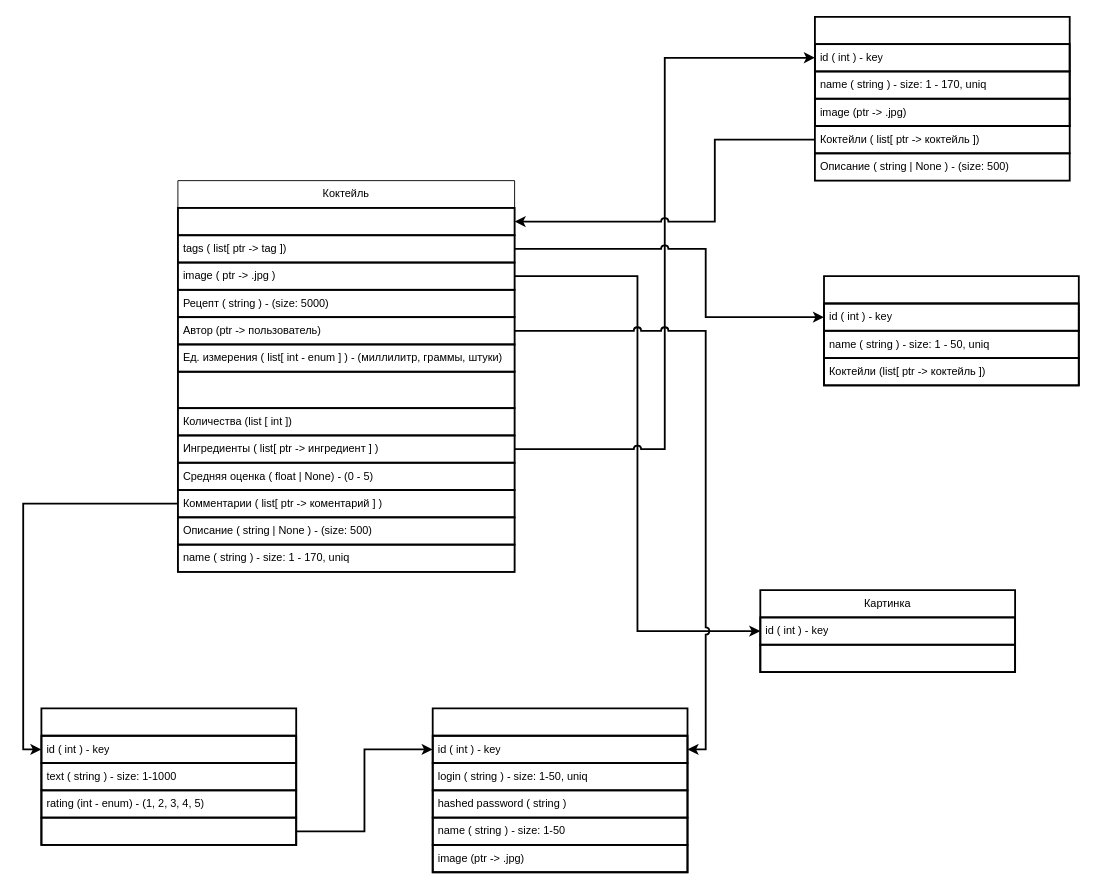
Image size: 1095x888. Some labels were removed from this diagram. Here are the shapes that lost their labels. From the top down, the box of each, then its label:
(814, 15, 1070, 126): Ингредиент
(177, 207, 515, 236): id (int) - key
(823, 275, 1079, 386): Тэг
(177, 370, 515, 409): Крепость ( int - enum ) - (безалкогольные, слабоалкогольные, крепкие )
(759, 643, 1016, 672): Картинка ( img ) - 512 x 512
(40, 707, 297, 845): Отзыв
(431, 707, 688, 873): Алкоголик
(40, 816, 297, 845): author (ptr -> пользователь)
